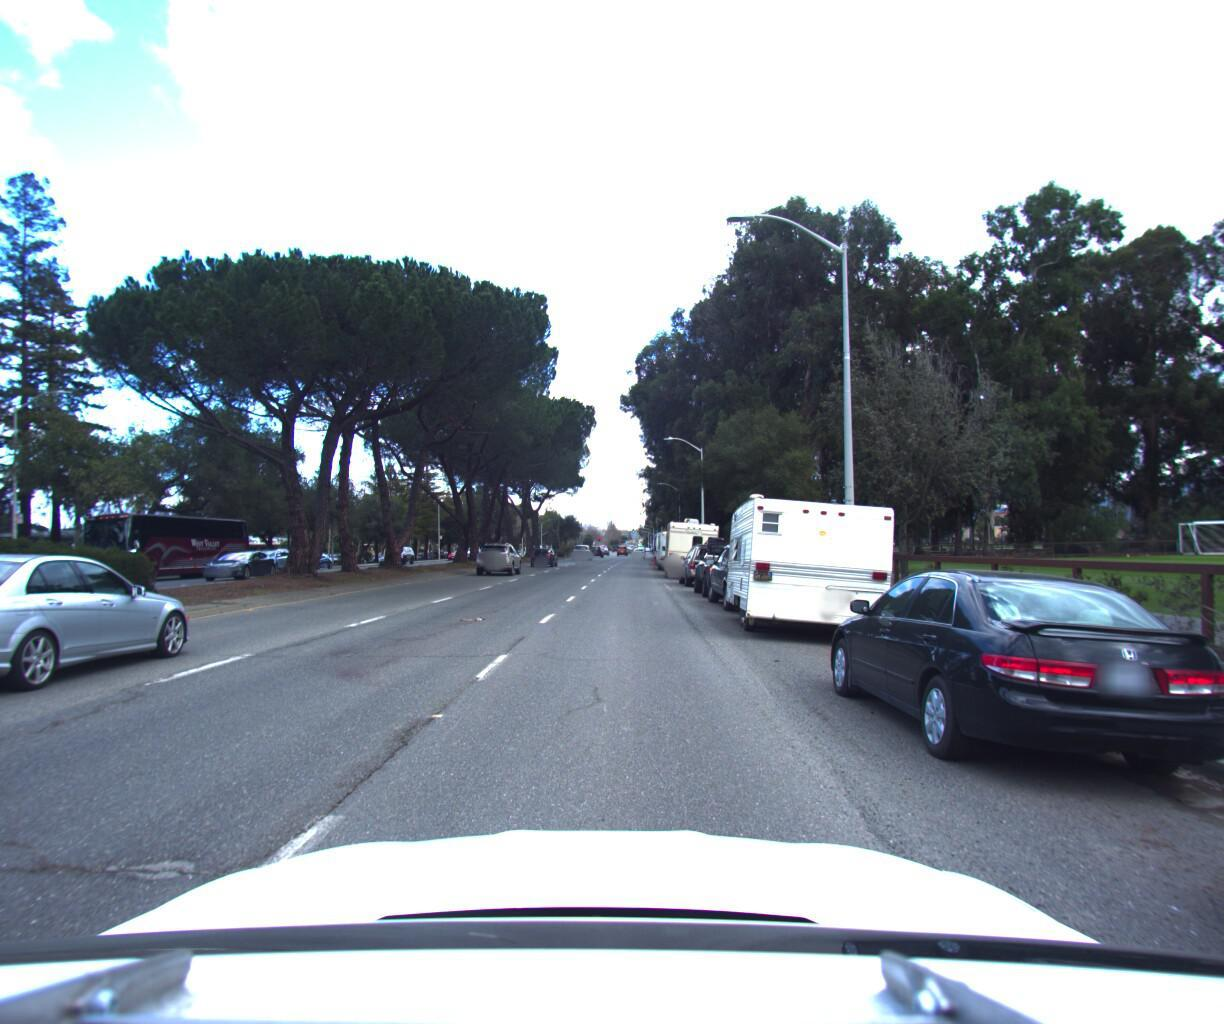bus: (66, 500, 259, 578)
car: (812, 554, 1224, 814), (702, 532, 810, 611), (689, 527, 766, 595), (676, 526, 732, 581), (202, 541, 282, 580), (478, 534, 525, 569), (242, 539, 299, 565), (529, 540, 560, 563)
other_vehicle: (722, 479, 914, 643), (661, 503, 720, 573), (654, 515, 700, 563)
